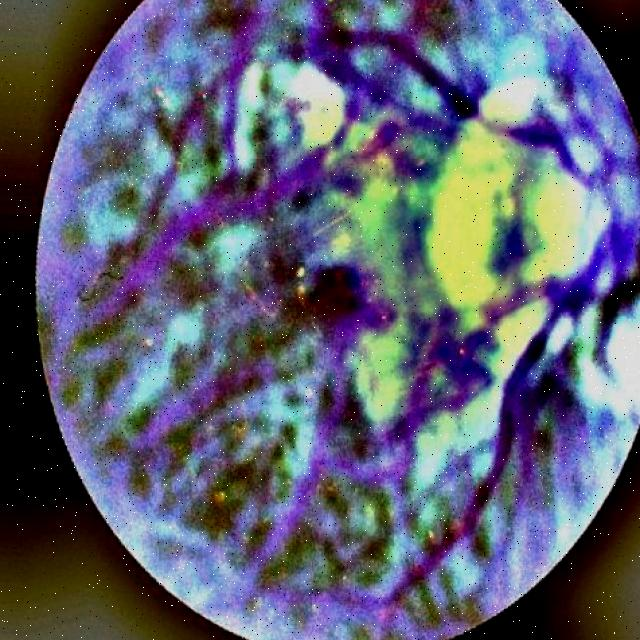Macula: (294, 257, 387, 337)
Nerves: (432, 271, 602, 568), (440, 79, 615, 226), (562, 47, 634, 169)
Optic Disk: (531, 97, 640, 408)
